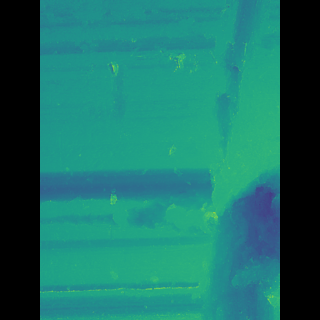Loch: (183, 0, 250, 320), (97, 0, 140, 149), (79, 189, 197, 242), (124, 251, 166, 305)
